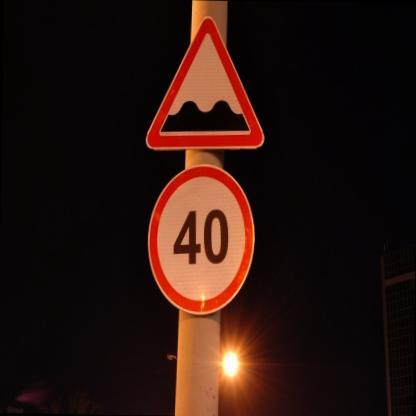road_sign: (146, 16, 264, 150), (149, 164, 254, 314)
